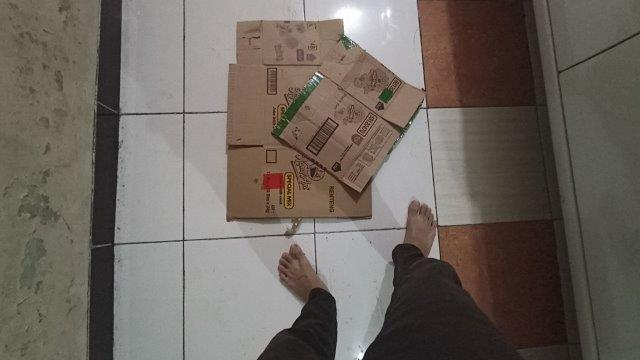kardus: (229, 20, 423, 219)
